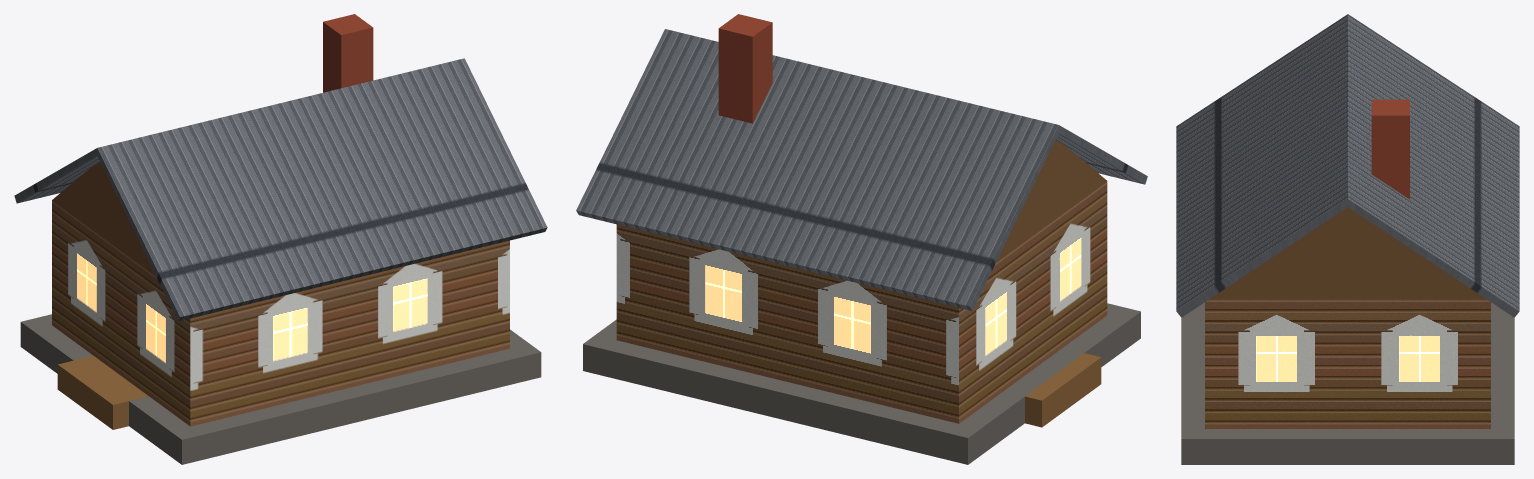
Rendered from sov_izba_b.glb.
3 views of the same model, side by side, from view 1: azimuth 30°, elevation 25°; view 2: azimuth 150°, elevation 25°; view 3: azimuth 270°, elevation 25° (orthographic). The views are drawn at different scales.
Visible parts, largest first — view 1: roof; view 2: roof; view 3: roof.
Boxes of the visible parts, x1,y1,x2,y2 form: roof: [14, 14, 547, 464]; roof: [576, 14, 1147, 464]; roof: [1176, 14, 1519, 464].
Size of the model in its own units: 9.5 by 7.2 by 7.2.
Materials: 6 (2 with a texture image).
